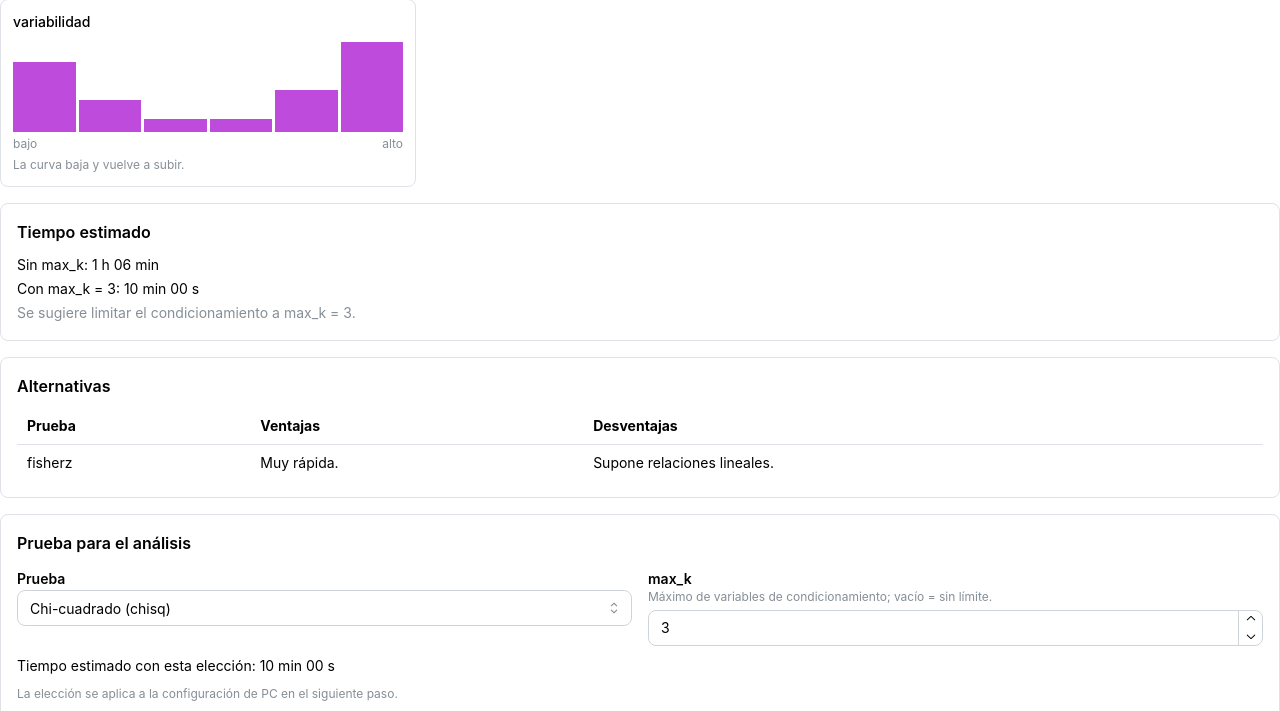
Scenario: Recomendación de prueba › muestra la forma en U y las advertencias del núcleo si la elección contradice los datos
The image size is (1280, 711).
(page scrolled)
Expected: the element with test id "sextiles-variabilidad" is shown, [0,0,416,187]
Expected: the text "Tiempo estimado con esta elección: 10 min 00 s" is shown, [17,657,335,674]
Click the dropdown labelled "Prueba" at {"x": 324, "y": 608}, box [17,590,632,626]
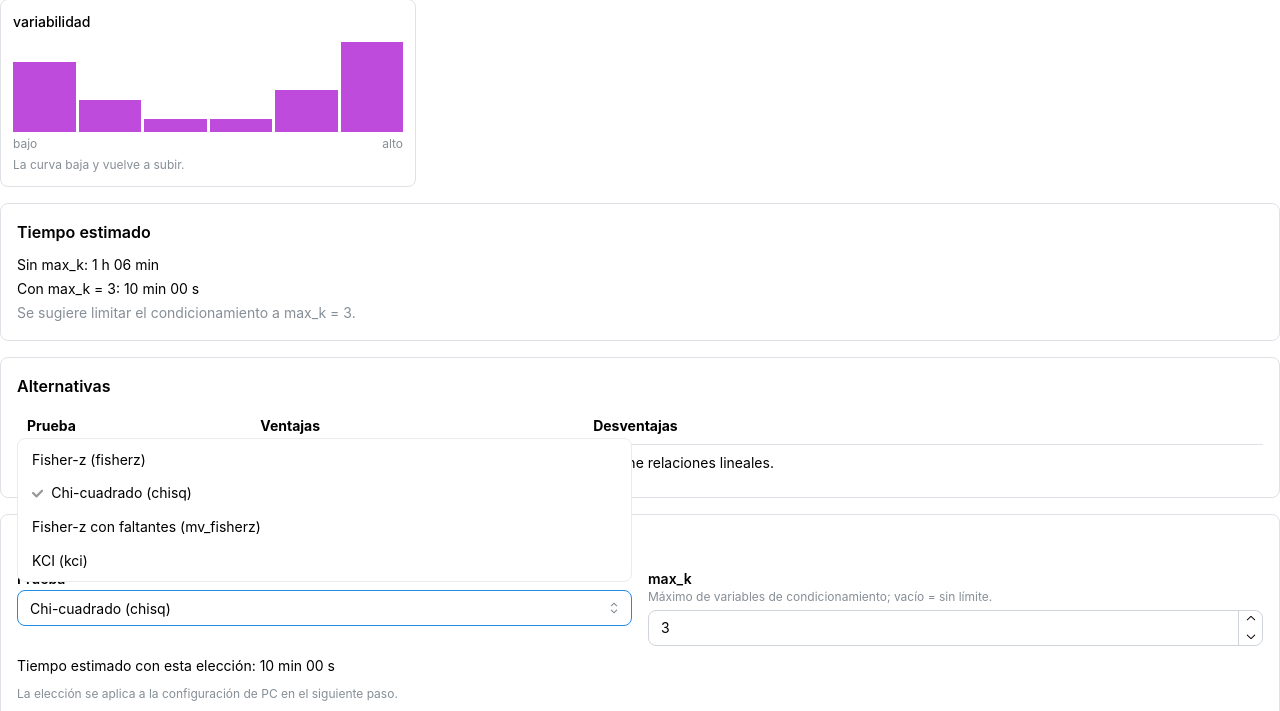
Click the option "Fisher-z (fisherz)" at {"x": 89, "y": 459}, box [32,451,146,468]
(page scrolled)
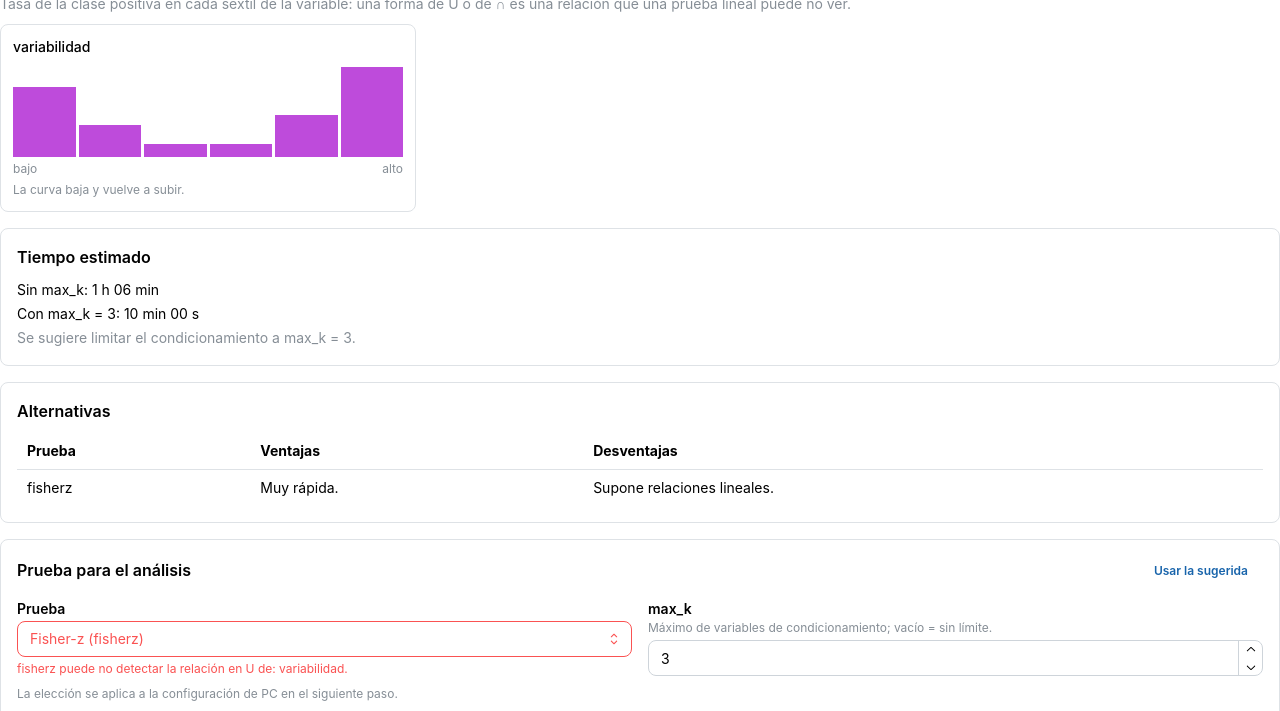
Now the text "fisherz puede no detectar la relación en U de: variabilidad." is shown, box [17,661,348,676]
Click the dropdown labelled "Prueba" at {"x": 324, "y": 639}, box [17,621,632,657]
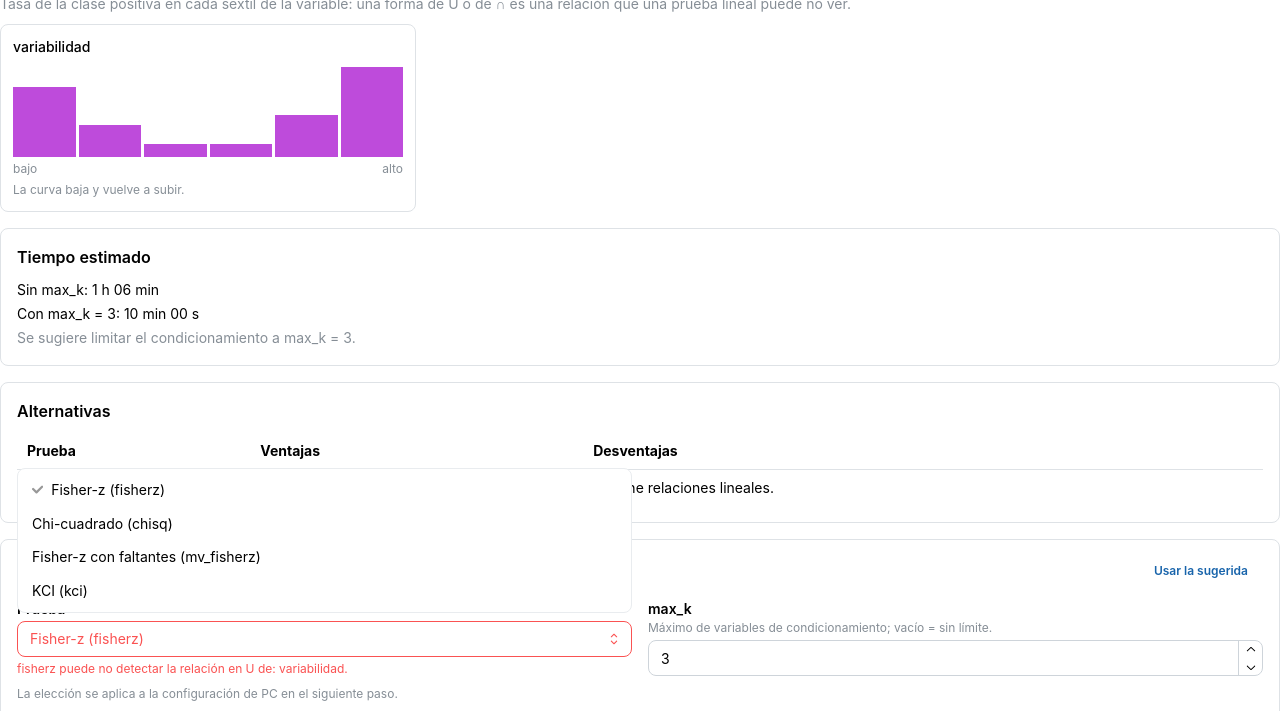
Click the option "Chi-cuadrado (chisq)" at {"x": 102, "y": 523}, box [32,515,173,532]
(page scrolled)
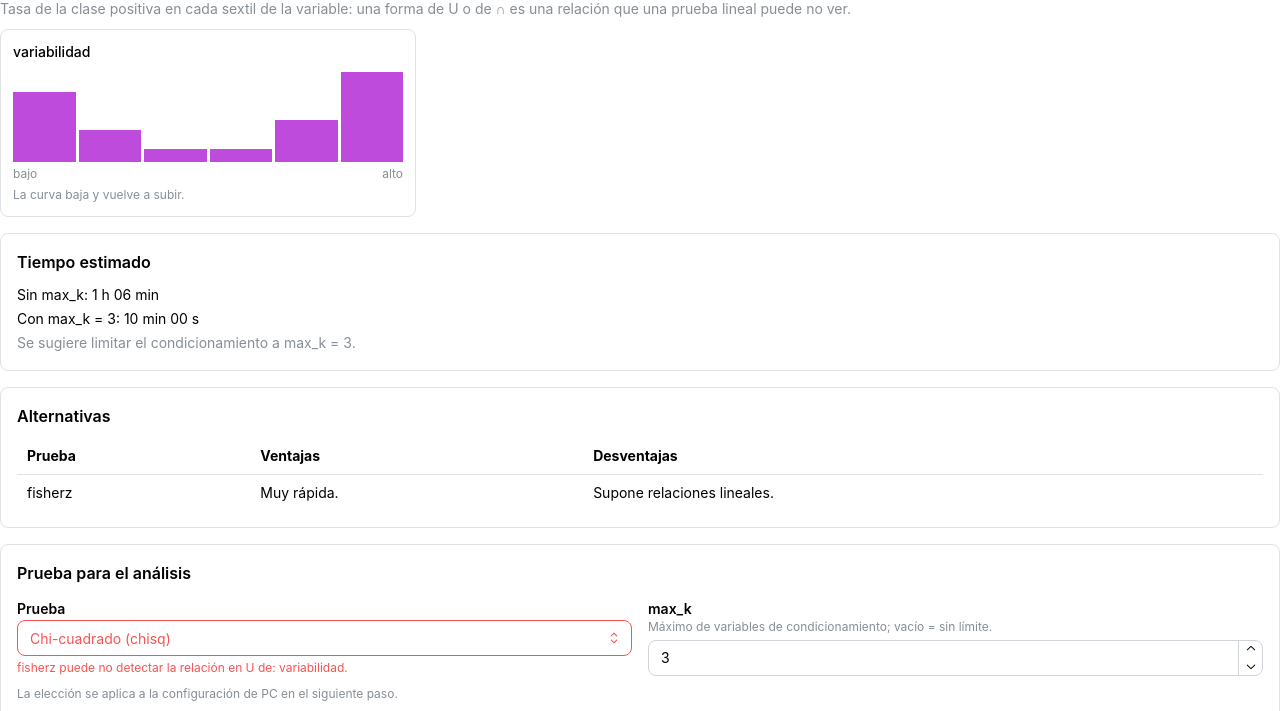
Clear the field labelled "max_k" at {"x": 956, "y": 658}, box [648,640,1263,676]
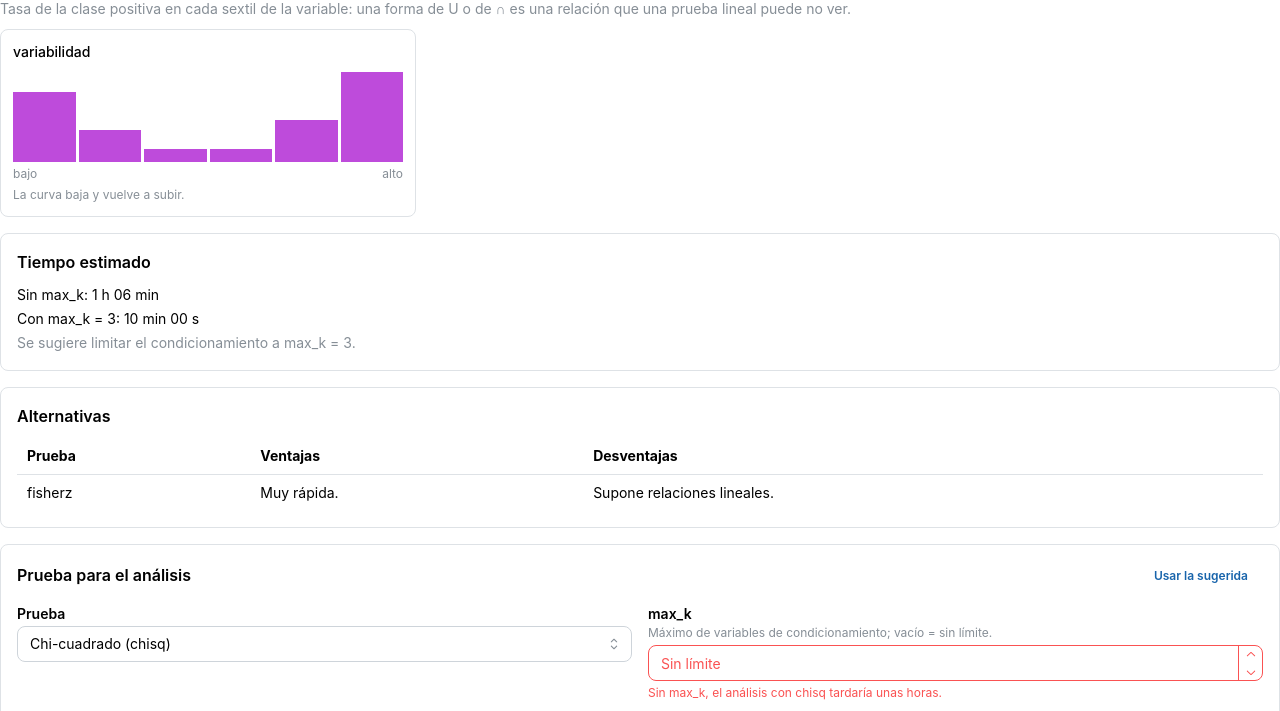
Now the text "Sin max_k, el análisis con chisq tardaría unas horas." is shown, box [648,685,942,700]
